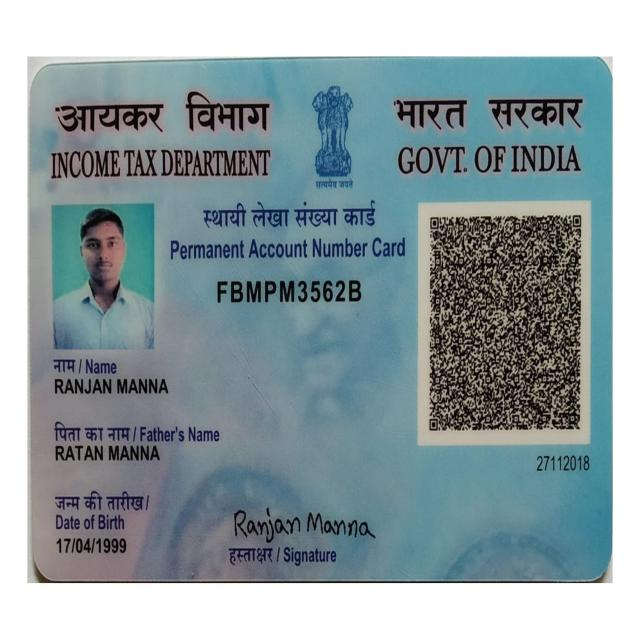pan_card: (34, 57, 603, 580)
